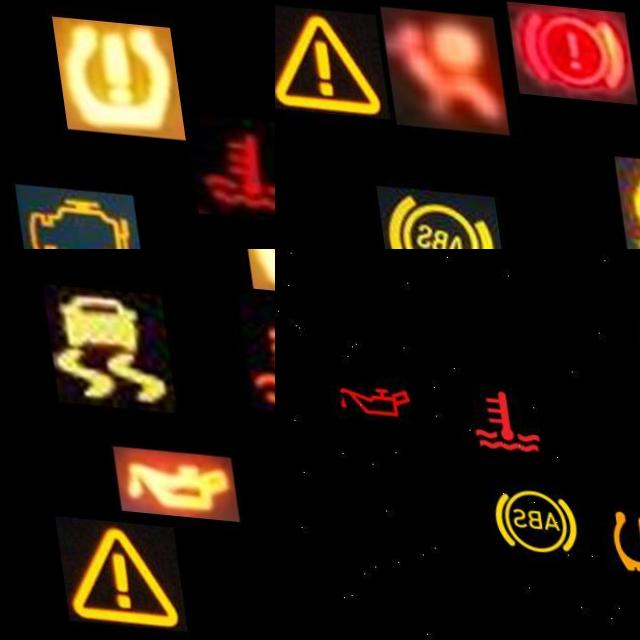Central Warning lamp: (44, 514, 173, 628), (275, 1, 386, 115)
Engine cooling system: (181, 106, 275, 215), (231, 287, 275, 414)
